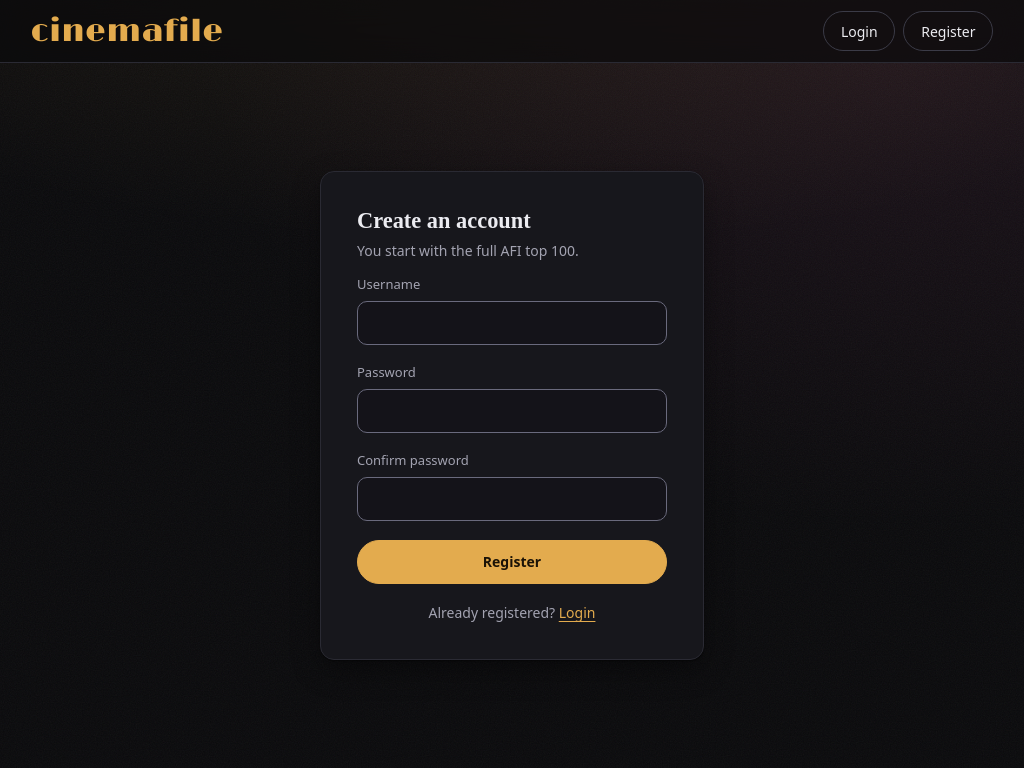
RegistrationForm › rejects mismatched passwords without troubling the server
Type "alice" into the field labelled "Username" at (512, 323), box [357,301,667,345]
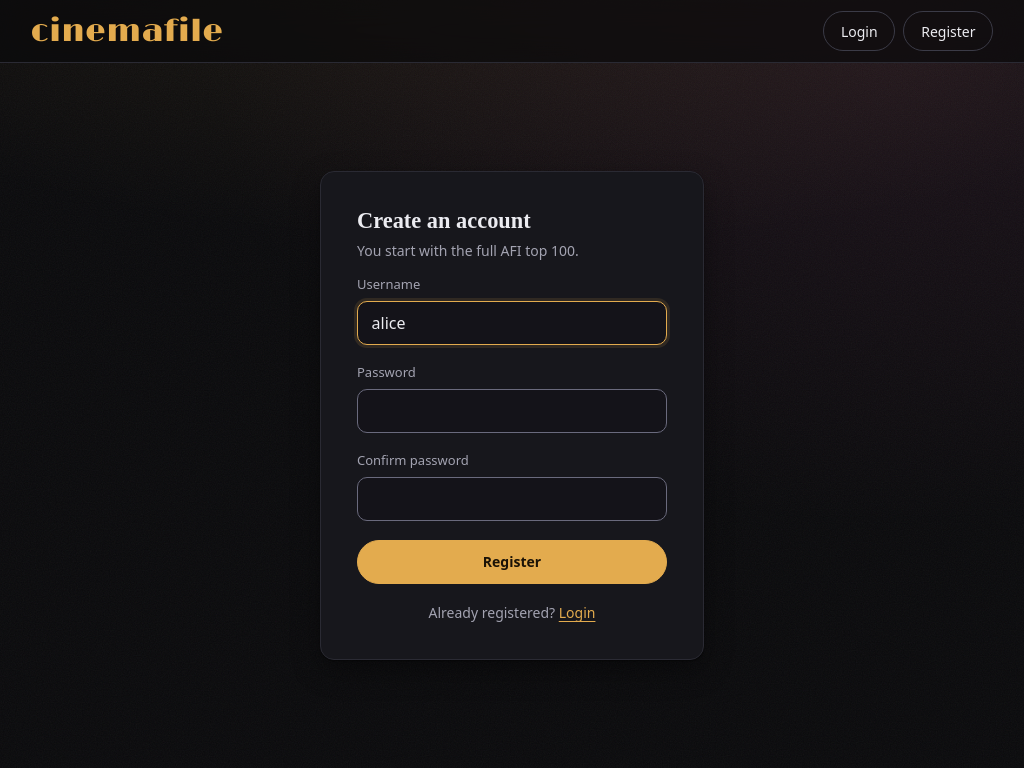
Type "a good password" into the password field labelled "Password" at (512, 411), box [357,389,667,433]
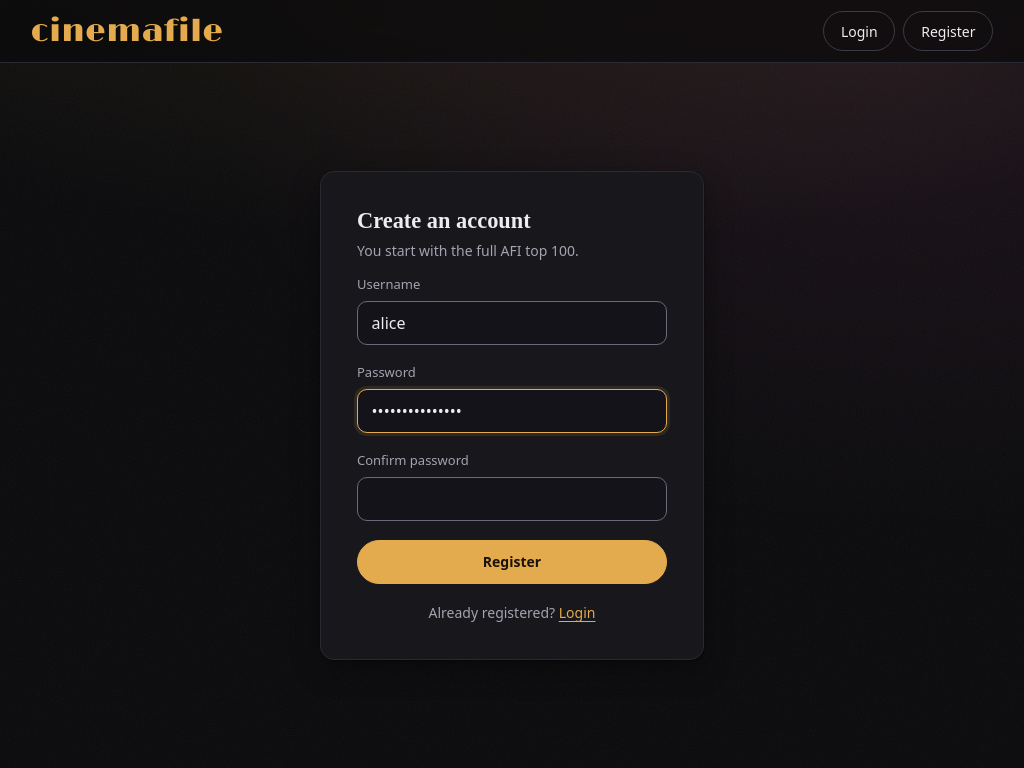
Type "a different password" into the password field labelled "Confirm password" at (512, 499), box [357,477,667,521]
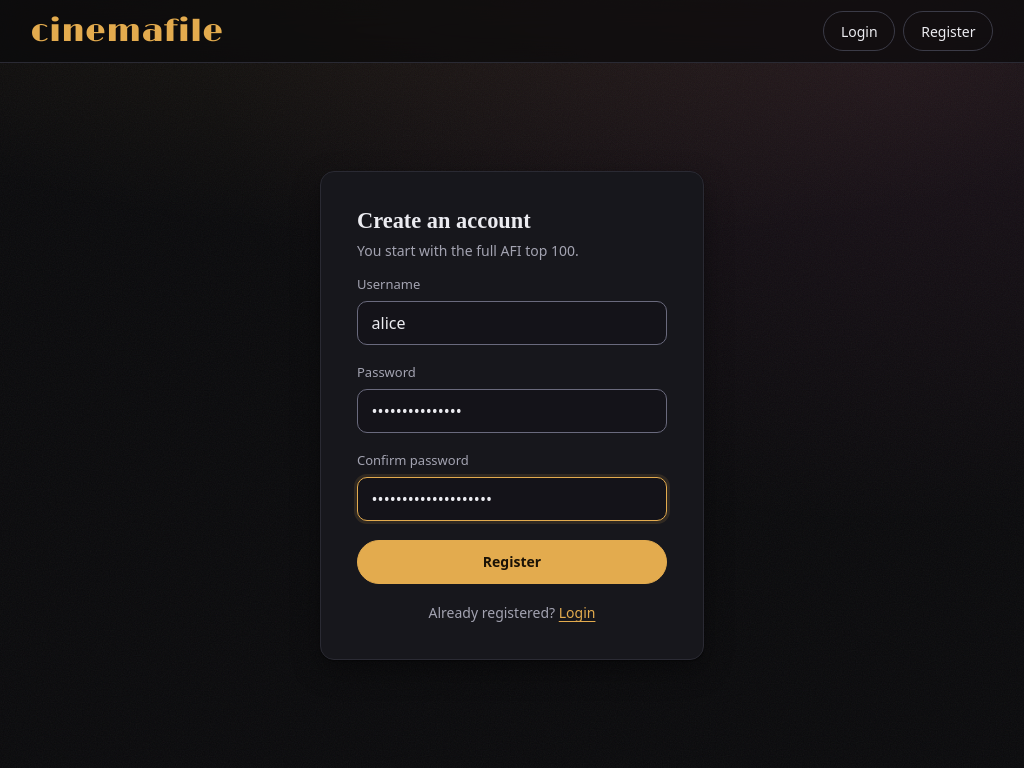
Click the button "Register" at (512, 562), box [357,540,667,584]
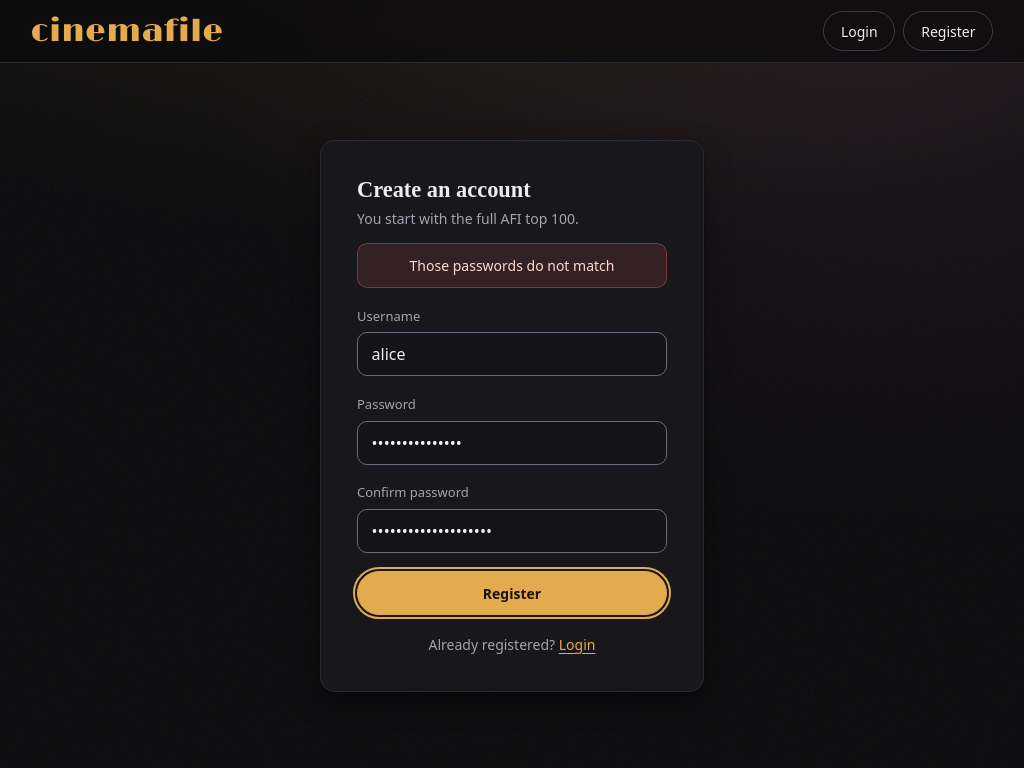
Result: the message shows "do not match" at [410,256,614,275]
